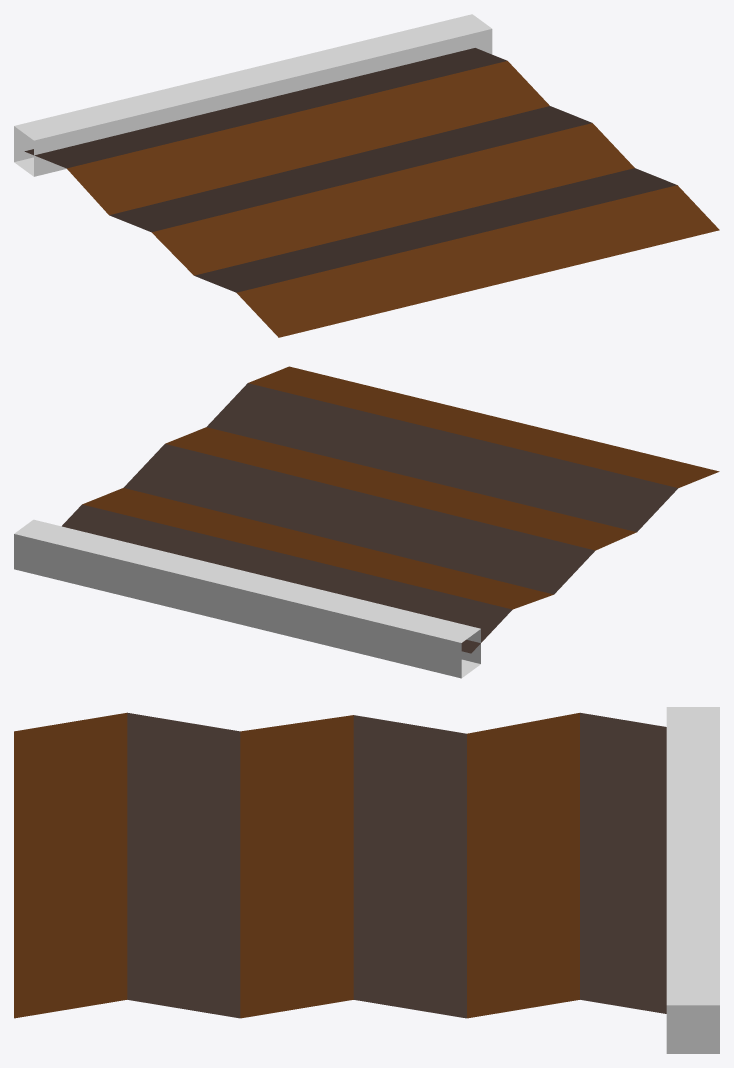
The model's file is FarmEdge.fbx.
The picture shows the model from 3 angles, top to bottom: view 1: azimuth 30°, elevation 25°; view 2: azimuth 150°, elevation 25°; view 3: azimuth 270°, elevation 25°; orthographic projection. The views are drawn at different scales.
Parts seen in each view (by area): view 1: Plane.002, Cube.007; view 2: Plane.002, Cube.007; view 3: Plane.002, Cube.007.
Part boxes in pixels (left/top/right/bottom): Plane.002: left=24, top=48, right=719, bottom=337; Cube.007: left=14, top=14, right=492, bottom=176; Plane.002: left=62, top=366, right=719, bottom=653; Cube.007: left=14, top=519, right=480, bottom=678; Plane.002: left=14, top=712, right=666, bottom=1018; Cube.007: left=666, top=707, right=719, bottom=1053.
Bounding box in the file's own units: 104 × 7.86 × 104.
